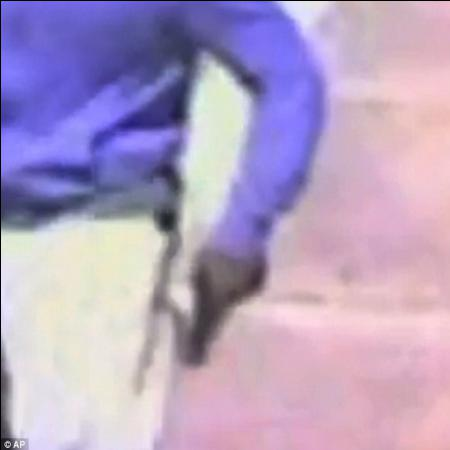Pistol: (171, 249, 265, 371)
